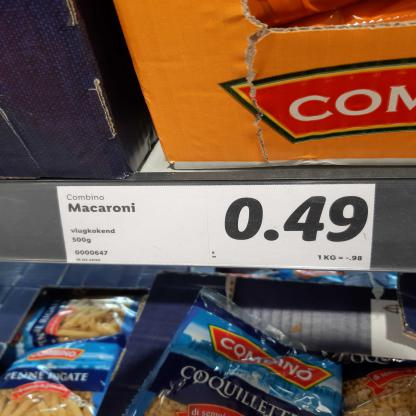prtg: (57, 184, 376, 270)
